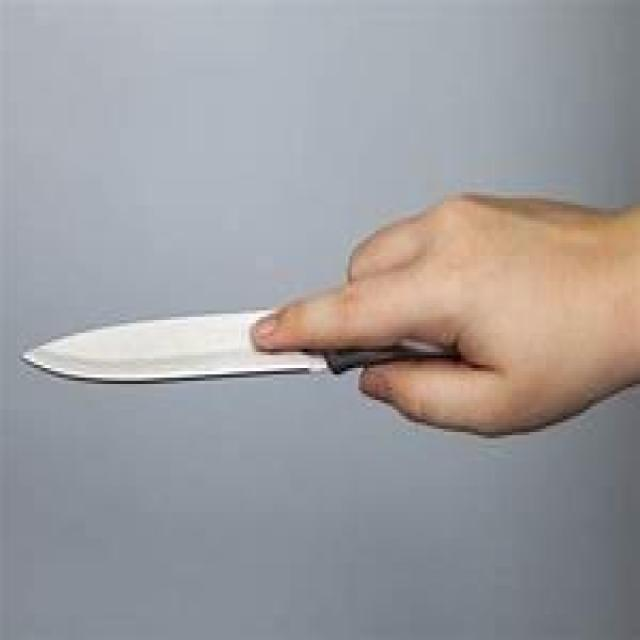Knife: (16, 168, 541, 502)
